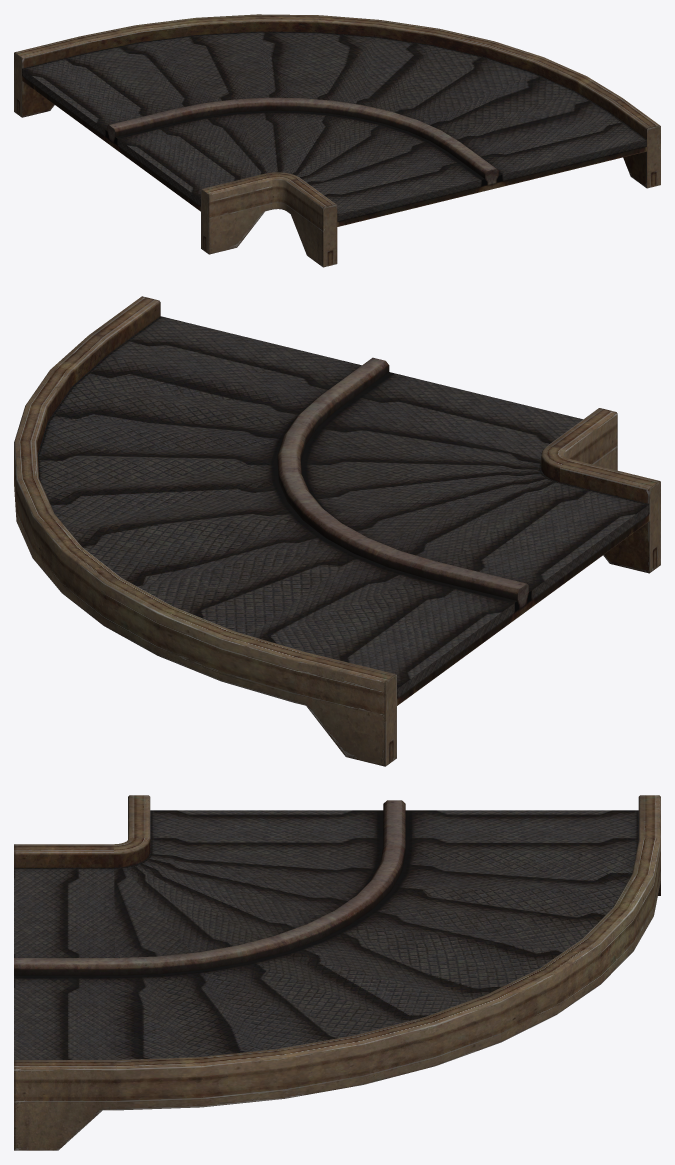
File: 01_02_machine_room_track_straight_turn_pplant.dae
The picture shows the model from 3 angles, top to bottom: view 1: azimuth 30°, elevation 25°; view 2: azimuth 150°, elevation 25°; view 3: azimuth 270°, elevation 25°; orthographic projection. The views are drawn at different scales.
Parts seen in each view (by area): view 1: low_turn; view 2: low_turn; view 3: low_turn.
Boxes of the visible parts, x1,y1,x2,y2 form: low_turn: (14, 14, 660, 267); low_turn: (14, 296, 660, 766); low_turn: (14, 795, 660, 1150).
Bounding box in the file's own units: 7.29 × 1.02 × 7.29.
